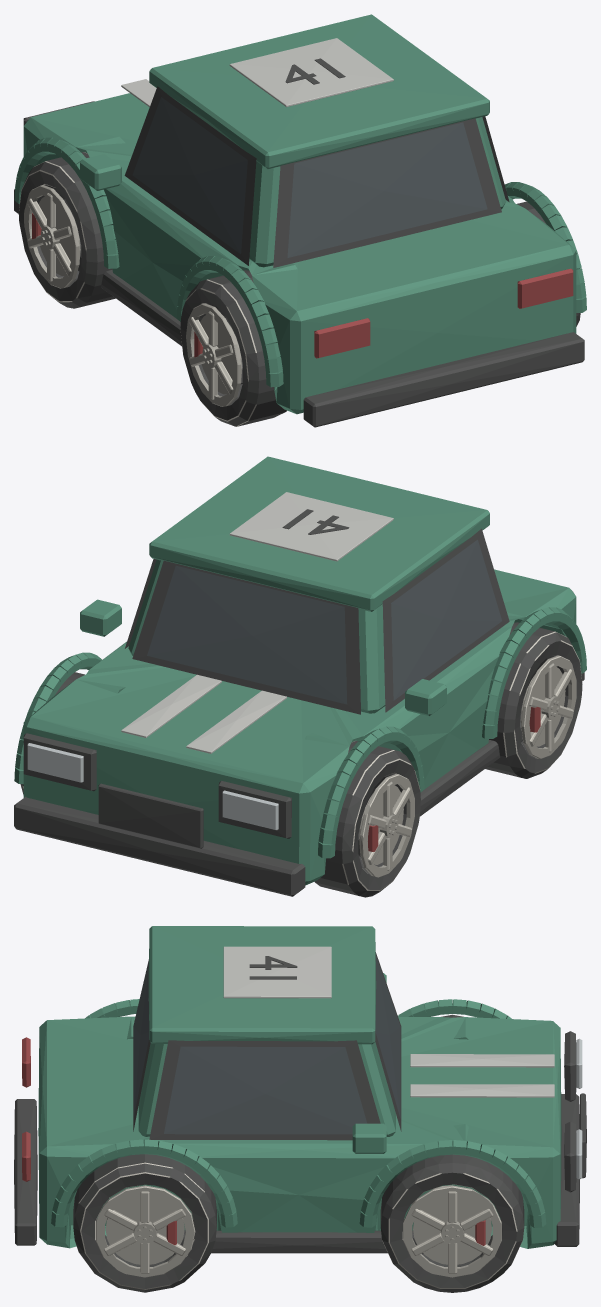
Rendered from car_balanced.glb.
3 renders of one model, top to bottom at view 1: azimuth 30°, elevation 25°; view 2: azimuth 150°, elevation 25°; view 3: azimuth 270°, elevation 25°, orthographic. The views are drawn at different scales.
Visible parts, largest first — view 1: Body.003, WheelMesh.014, WheelMesh.012; view 2: Body.003, WheelMesh.012, WheelMesh.014; view 3: Body.003, WheelMesh.013, WheelMesh.015.
Boxes of the visible parts, left/top/right/bottom form: Body.003: left=14, top=14, right=586, bottom=427; WheelMesh.014: left=180, top=270, right=286, bottom=426; WheelMesh.012: left=18, top=152, right=115, bottom=308; Body.003: left=14, top=456, right=586, bottom=896; WheelMesh.012: left=314, top=740, right=420, bottom=897; WheelMesh.014: left=485, top=622, right=582, bottom=778; Body.003: left=14, top=926, right=586, bottom=1253; WheelMesh.013: left=380, top=1154, right=524, bottom=1292; WheelMesh.015: left=73, top=1154, right=216, bottom=1292.
Size of the model in its own units: 2.64 by 1.87 by 3.91.
